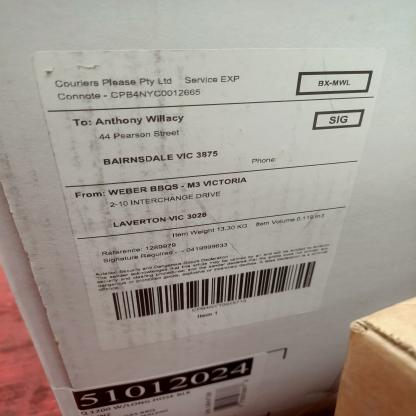label: (21, 41, 370, 347)
package: (1, 2, 413, 416)
